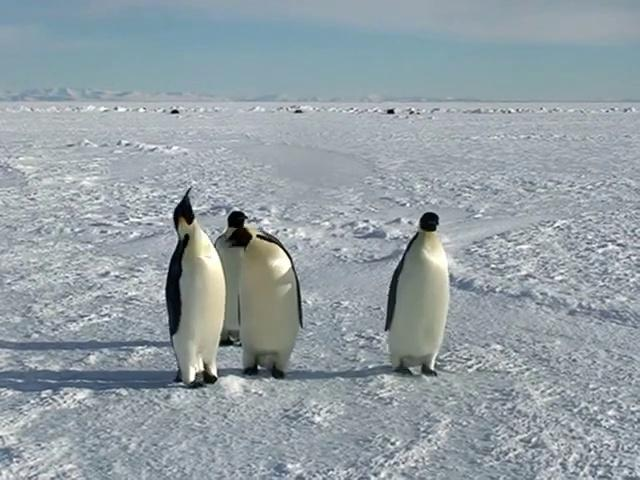animal: (386, 214, 450, 377)
